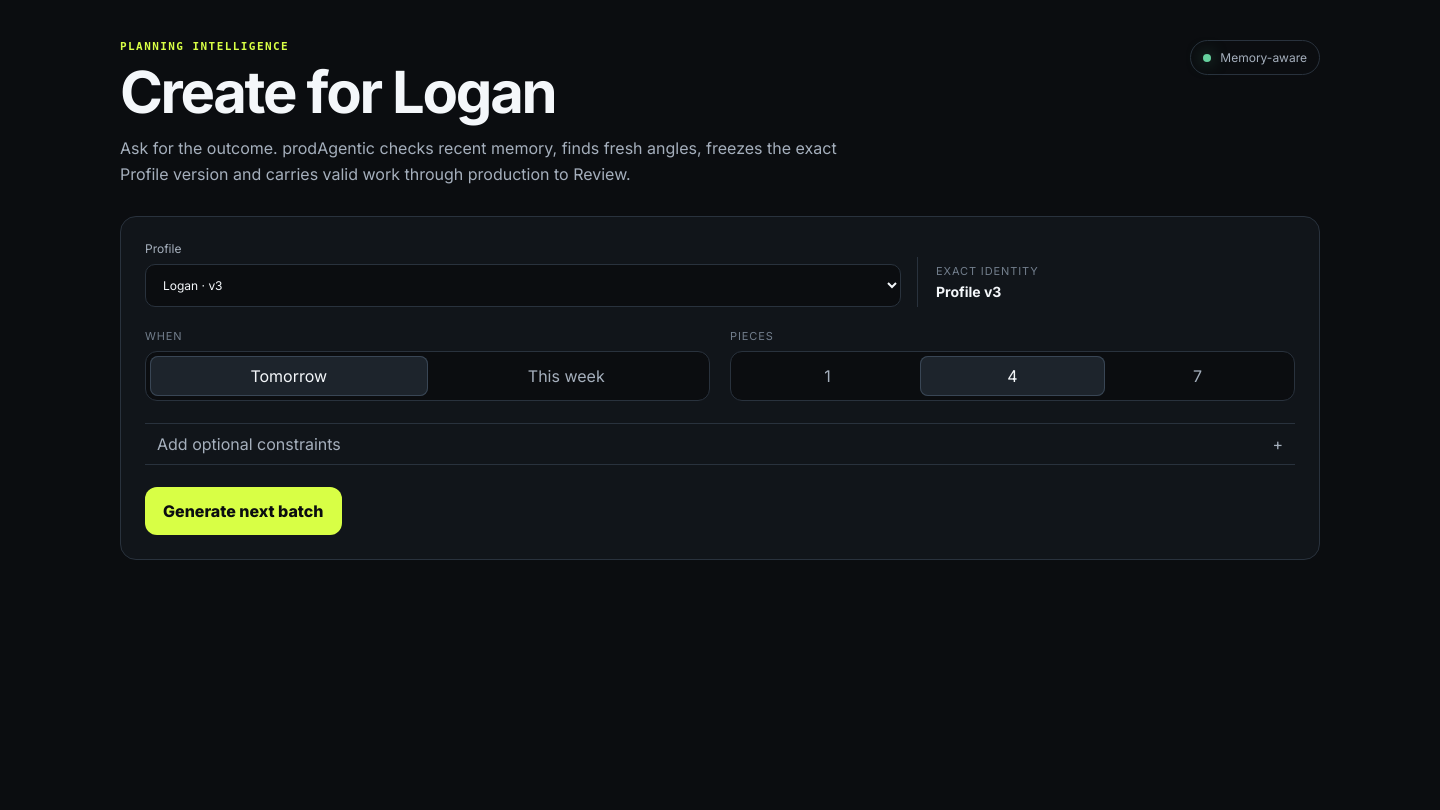
Test: MK1 R2 Create › preserves partial success and exposes an authoritative recovery action when one piece fails QA
Expected: the heading "Create for Logan" is shown, x1=120 y1=57 x2=555 y2=127
What coordinates should you click on to do the following:
click the button "Generate next batch"
I would click on:
 (243, 510)
Its box is x1=145 y1=486 x2=342 y2=534.
(page scrolled)
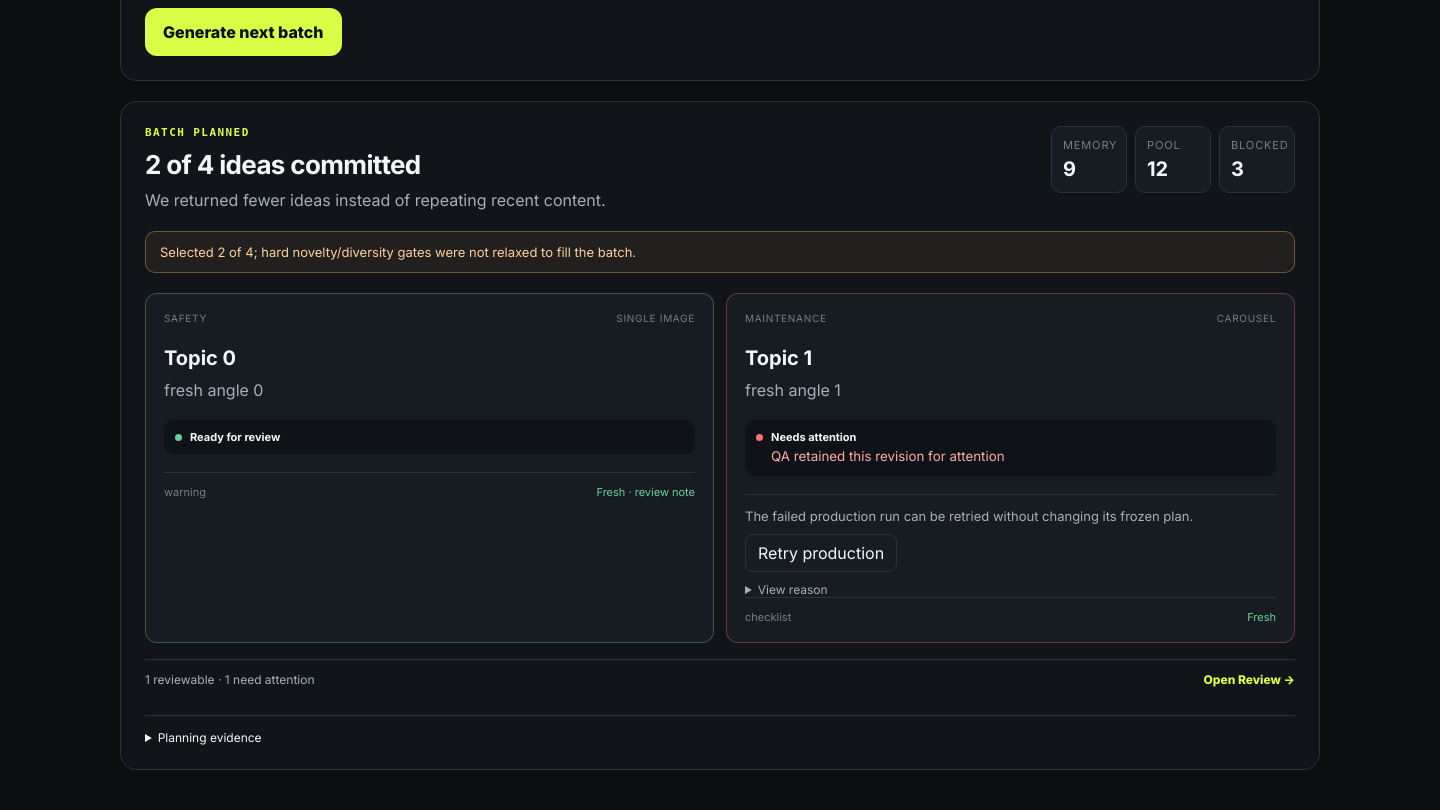
Now the text "1 reviewable · 1 need attention" is shown, box x1=145 y1=672 x2=314 y2=688
Now the text "QA retained this revision for attention" is shown, box x1=771 y1=448 x2=1005 y2=464
Now the button "Retry production" is enabled, box x1=745 y1=534 x2=897 y2=572
